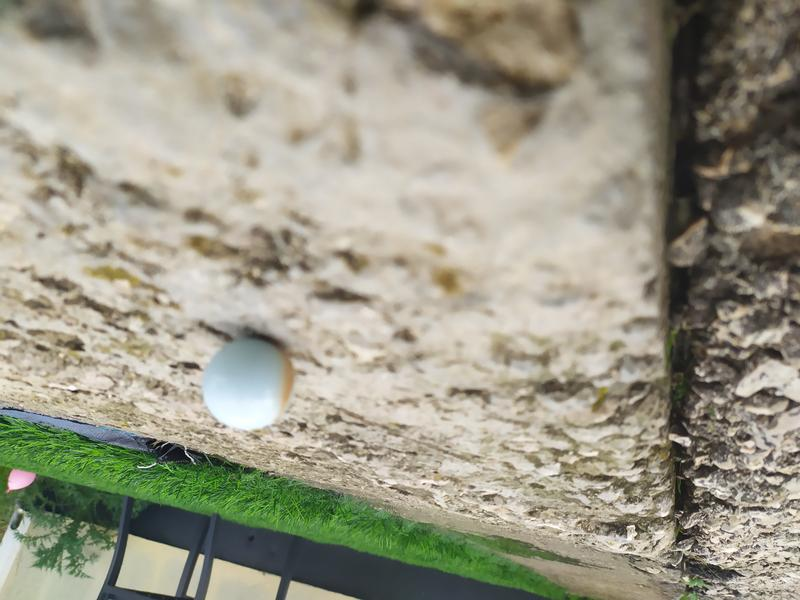Warning: (199, 333, 300, 432)
